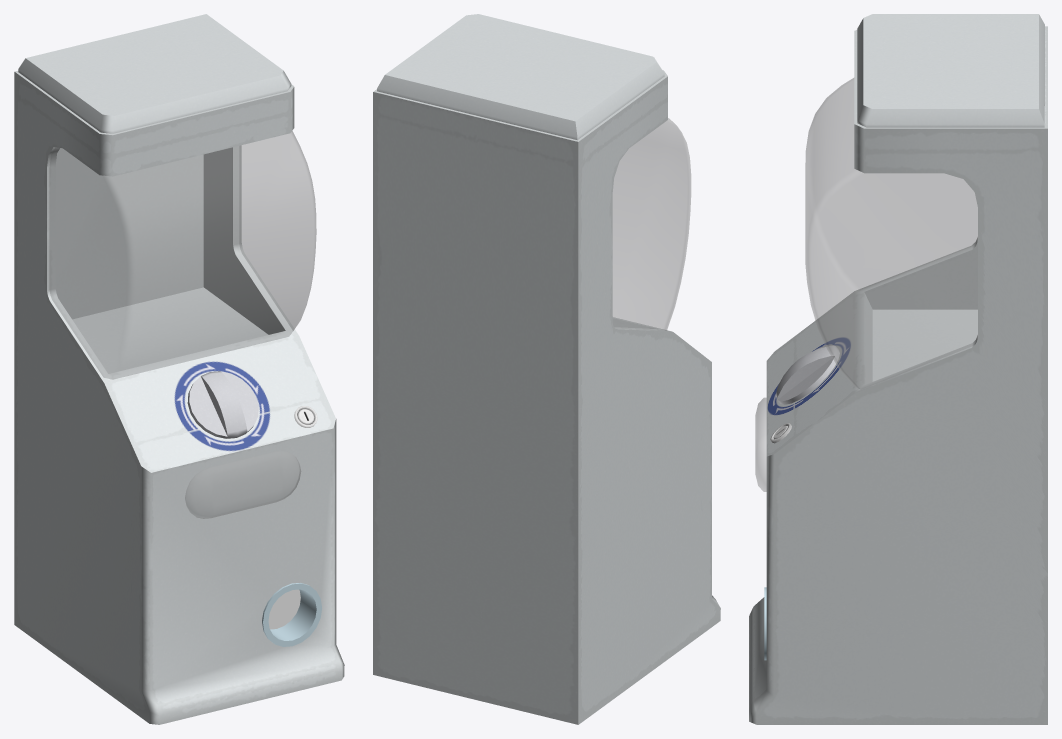
The model's file is niudanjiA_Geo_Grp.fbx.
3 views of the same model, side by side, from view 1: azimuth 30°, elevation 25°; view 2: azimuth 150°, elevation 25°; view 3: azimuth 270°, elevation 25° (orthographic). The views are drawn at different scales.
Parts seen in each view (by area): view 1: niudanjiA_Geo, niudanjiA_glass_Geo, xuanniu_niudanjiA_Geo; view 2: niudanjiA_Geo, niudanjiA_glass_Geo; view 3: niudanjiA_Geo, niudanjiA_glass_Geo, xuanniu_niudanjiA_Geo.
Boxes of the visible parts, x1,y1,x2,y2 form: niudanjiA_Geo: (14, 14, 344, 724); niudanjiA_glass_Geo: (49, 131, 316, 518); xuanniu_niudanjiA_Geo: (187, 371, 258, 438); niudanjiA_Geo: (373, 14, 720, 724); niudanjiA_glass_Geo: (612, 118, 691, 330); niudanjiA_Geo: (749, 14, 1047, 724); niudanjiA_glass_Geo: (755, 78, 977, 491); xuanniu_niudanjiA_Geo: (776, 344, 839, 404).
Size of the model in its own units: 82.87 by 231 by 102.
2 materials, 1 textured.
